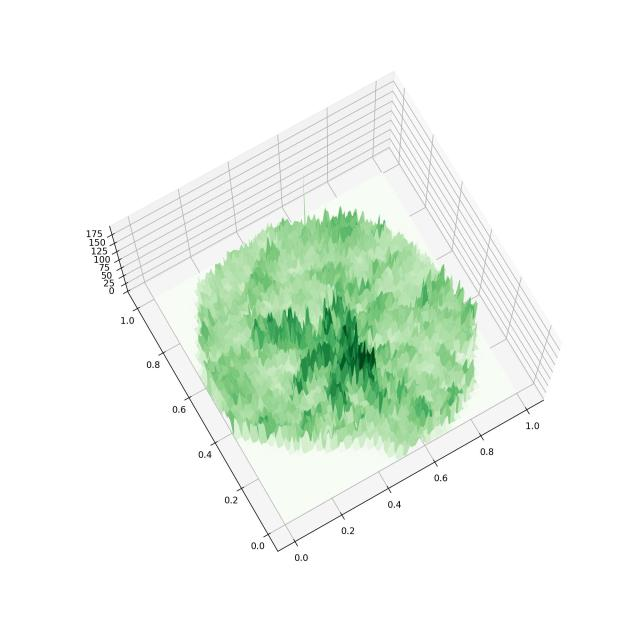spruce: (57, 48, 586, 577)
